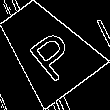P_NW: (15, 18, 79, 80)
